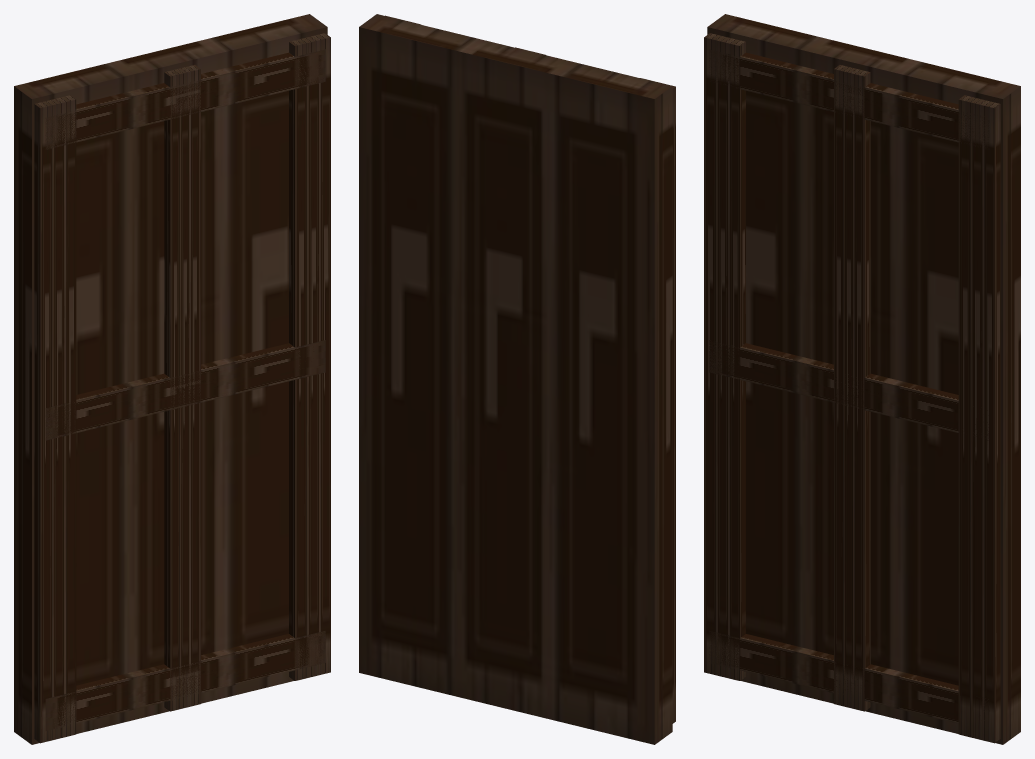
File: ae_duel_wood_door_lod2.glb
The picture shows the model from 3 angles, left to right: view 1: azimuth 30°, elevation 25°; view 2: azimuth 150°, elevation 25°; view 3: azimuth 330°, elevation 25°; orthographic projection.
Visible parts, largest first — view 1: ae_duel_wood_door_lod2; view 2: ae_duel_wood_door_lod2; view 3: ae_duel_wood_door_lod2.
Part boxes in pixels (left/top/right/bottom): ae_duel_wood_door_lod2: left=14, top=14, right=330, bottom=744; ae_duel_wood_door_lod2: left=359, top=14, right=675, bottom=744; ae_duel_wood_door_lod2: left=704, top=14, right=1020, bottom=744.
Size of the model in its own units: 1.15 by 2.4 by 0.16.
1 material, 1 textured.
